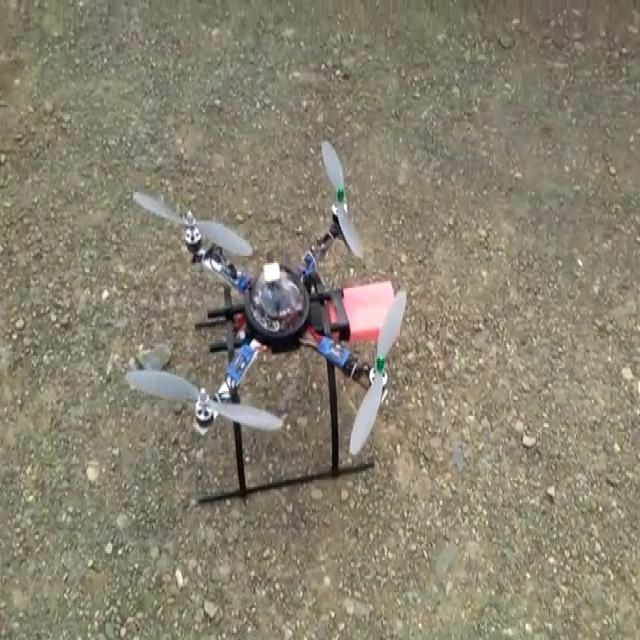drone: (123, 128, 409, 514)
